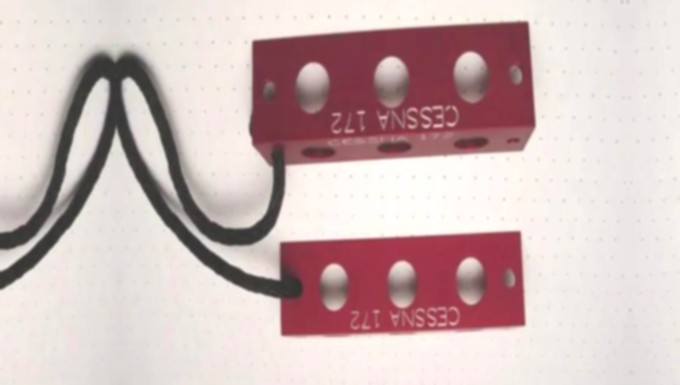chock: (244, 17, 539, 169), (271, 228, 530, 341)
